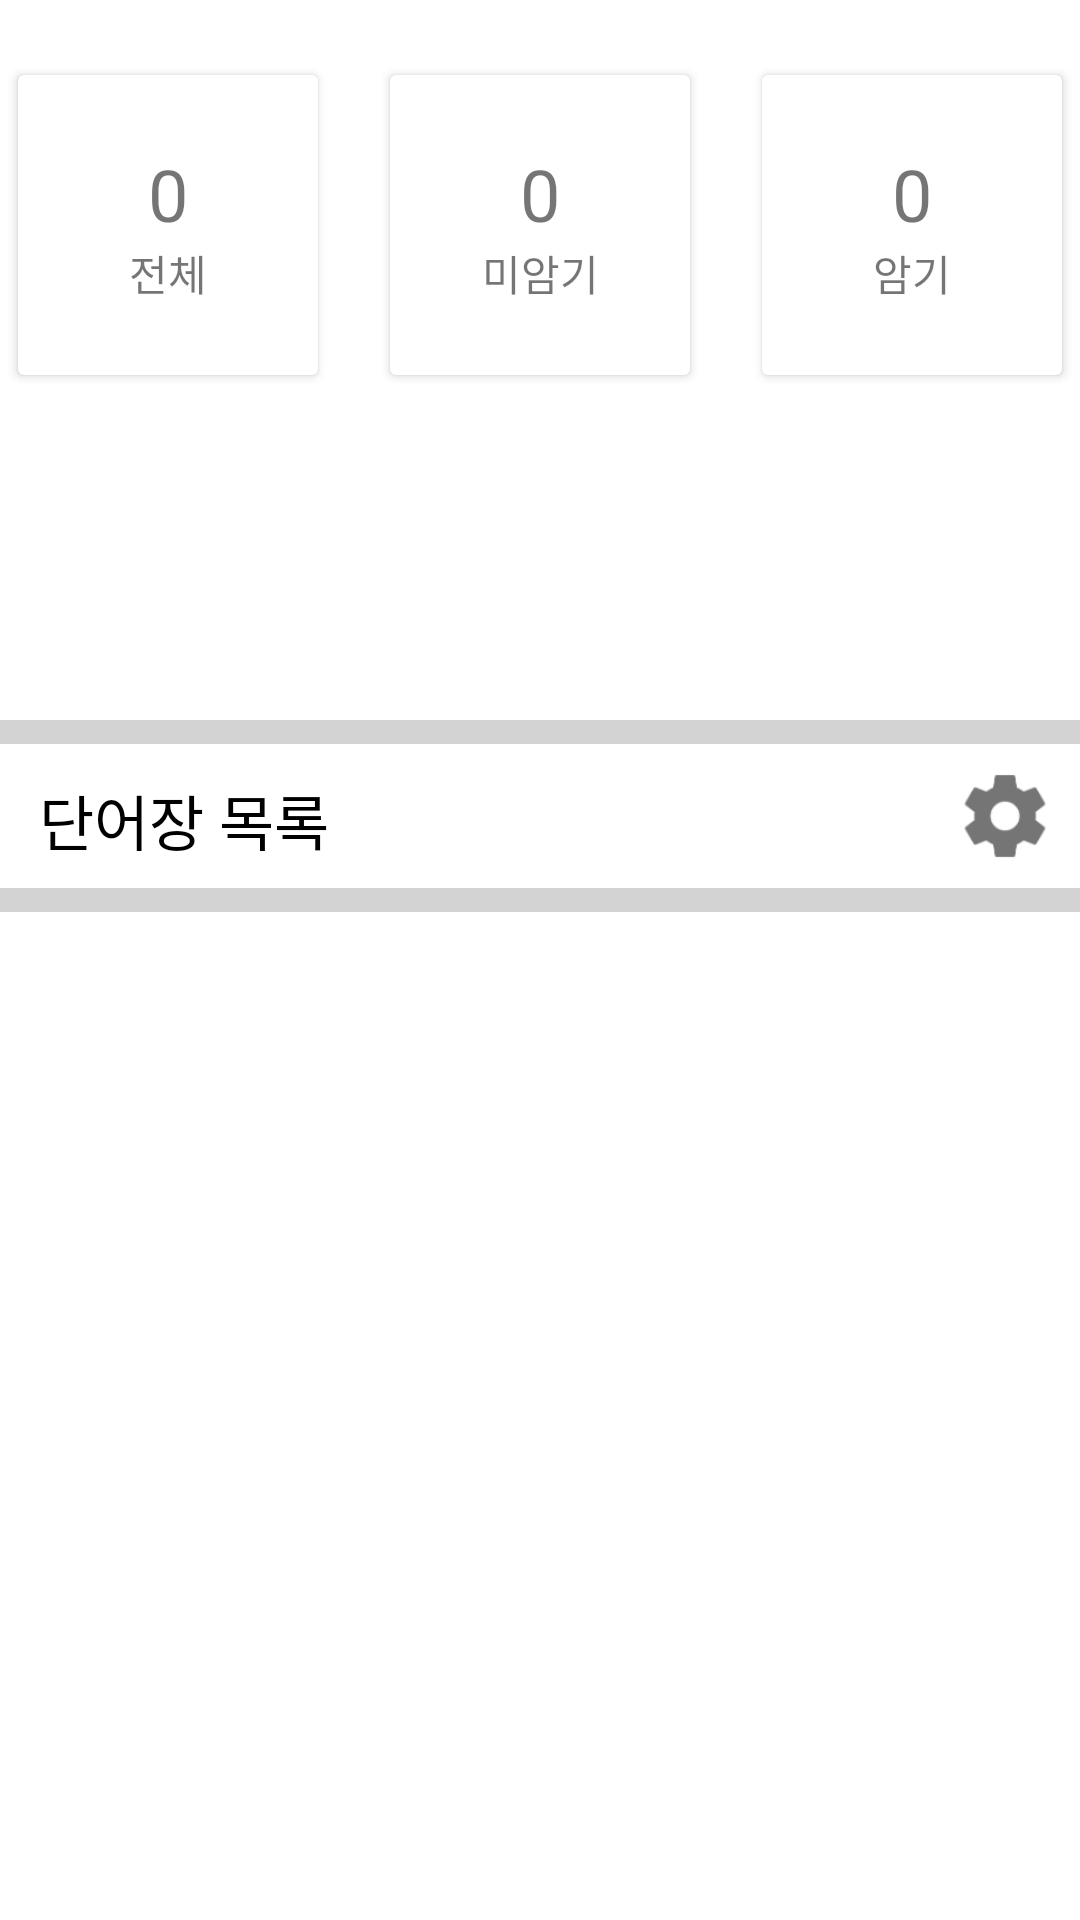

Where to tap for icons on this 1080w x 1920h app screen, as (x=x, y=y):
settings: (x=1005, y=816)
